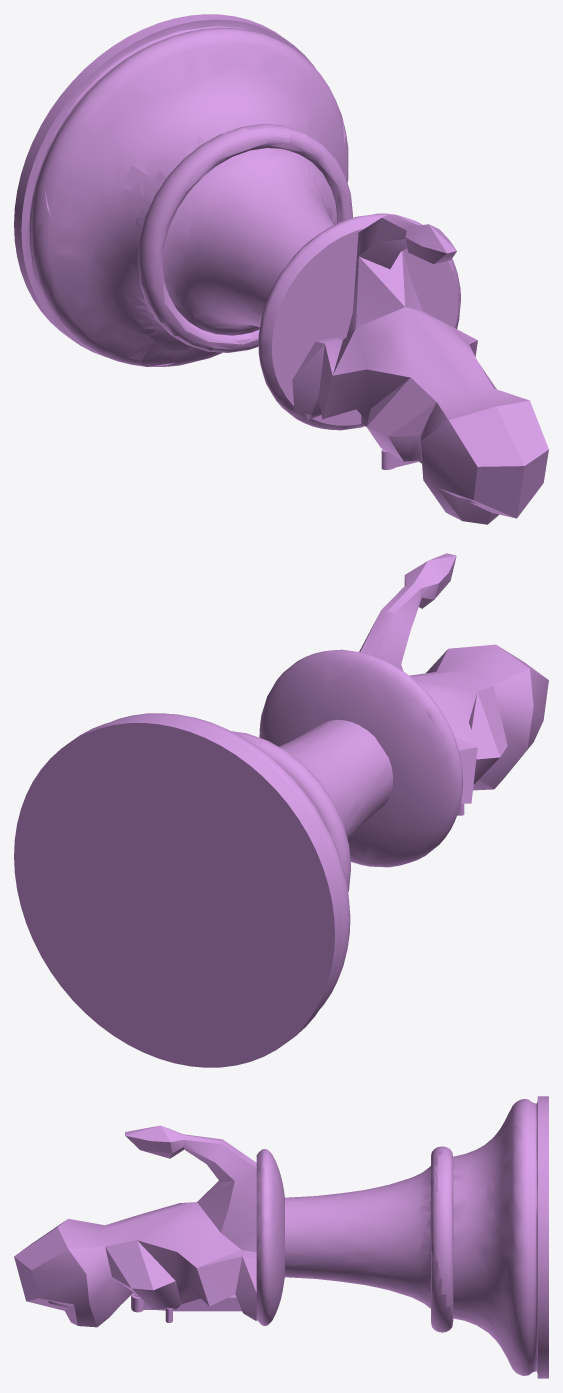
The model's file is Caballo.obj.
3 views of the same model, one above another, from view 1: azimuth 30°, elevation 25°; view 2: azimuth 150°, elevation 25°; view 3: azimuth 270°, elevation 25° (orthographic). The views are drawn at different scales.
Parts seen in each view (by area): view 1: Charmander_Knight_3; view 2: Charmander_Knight_3; view 3: Charmander_Knight_3.
Boxes of the visible parts, x1=… form: Charmander_Knight_3: x1=14, y1=14, x2=548, y2=524; Charmander_Knight_3: x1=14, y1=553, x2=548, y2=1067; Charmander_Knight_3: x1=14, y1=1096, x2=548, y2=1378.
Size of the model in its own units: 31.5 by 31.5 by 59.7.
